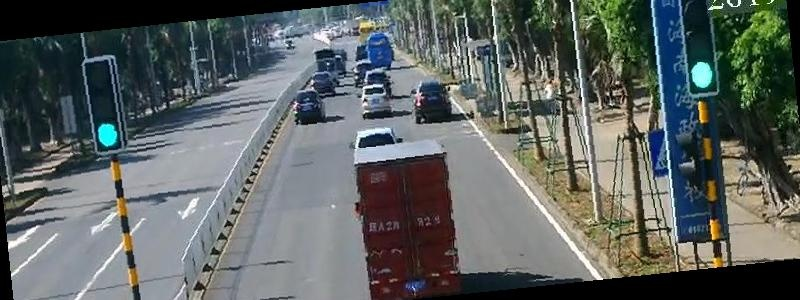green: (688, 61, 715, 88), (93, 122, 120, 148)
